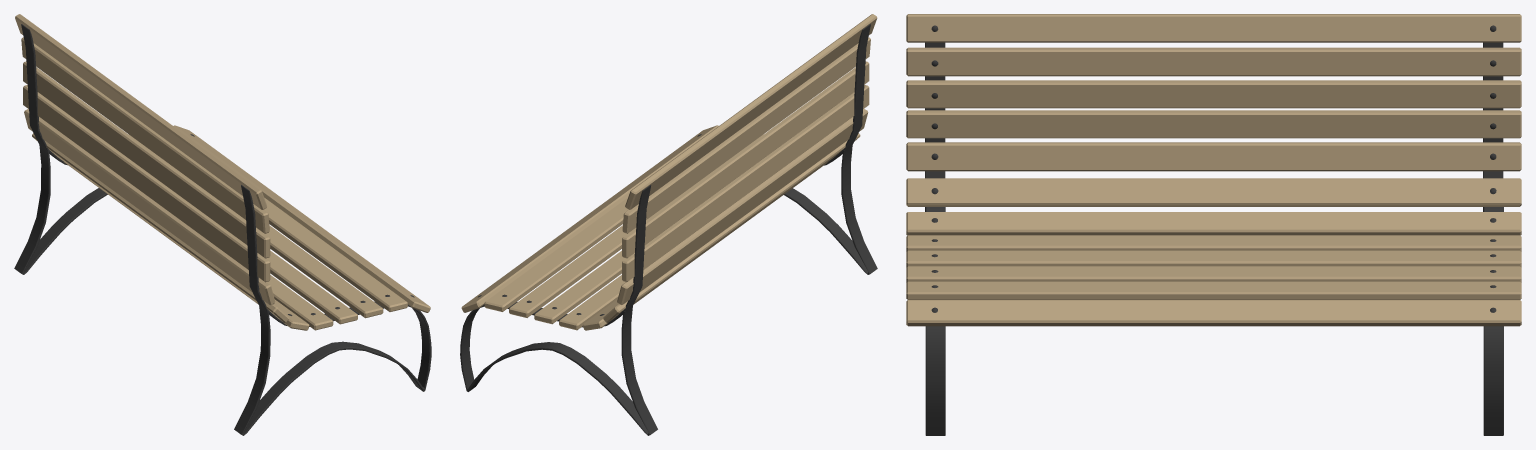
Rendered from Bench.fbx.
The picture shows the model from 3 angles, left to right: view 1: azimuth 30°, elevation 25°; view 2: azimuth 150°, elevation 25°; view 3: azimuth 270°, elevation 25°; orthographic projection. The views are drawn at different scales.
Parts seen in each view (by area): view 1: pCube27; view 2: pCube27; view 3: pCube27.
Boxes of the visible parts, <box> form: pCube27: <box>14,14,431,435</box>; pCube27: <box>460,14,877,435</box>; pCube27: <box>906,14,1521,435</box>.
Bounding box in the file's own units: 3.48 × 4.34 × 7.67.
